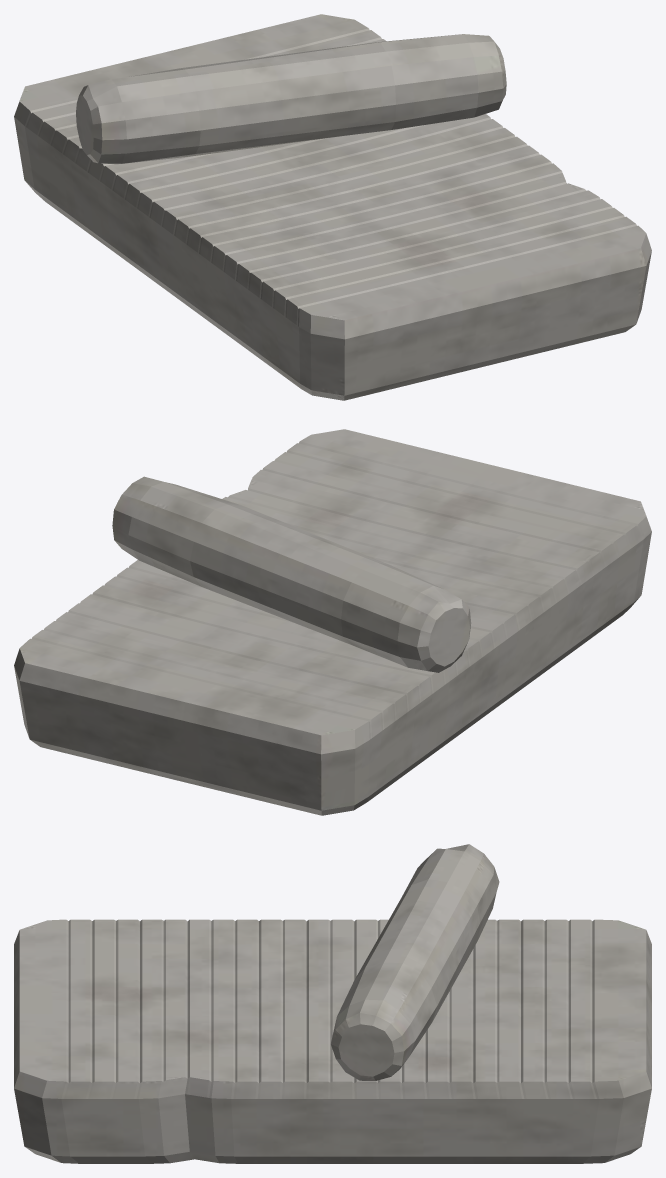
The model's file is K14_sil_batta_grinder.glb.
The picture shows the model from 3 angles, top to bottom: view 1: azimuth 30°, elevation 25°; view 2: azimuth 150°, elevation 25°; view 3: azimuth 270°, elevation 25°; orthographic projection.
Visible parts, largest first — view 1: Sil_worn_grooved_stone_slab; view 2: Sil_worn_grooved_stone_slab; view 3: Sil_worn_grooved_stone_slab.
Boxes of the visible parts, box(x1,y1,x2,y2) form: Sil_worn_grooved_stone_slab: box(14, 14, 651, 400); Sil_worn_grooved_stone_slab: box(14, 429, 651, 815); Sil_worn_grooved_stone_slab: box(14, 844, 651, 1163).
Size of the model in its own units: 0.3338 by 0.1413 by 0.5.
1 material, 1 textured.
